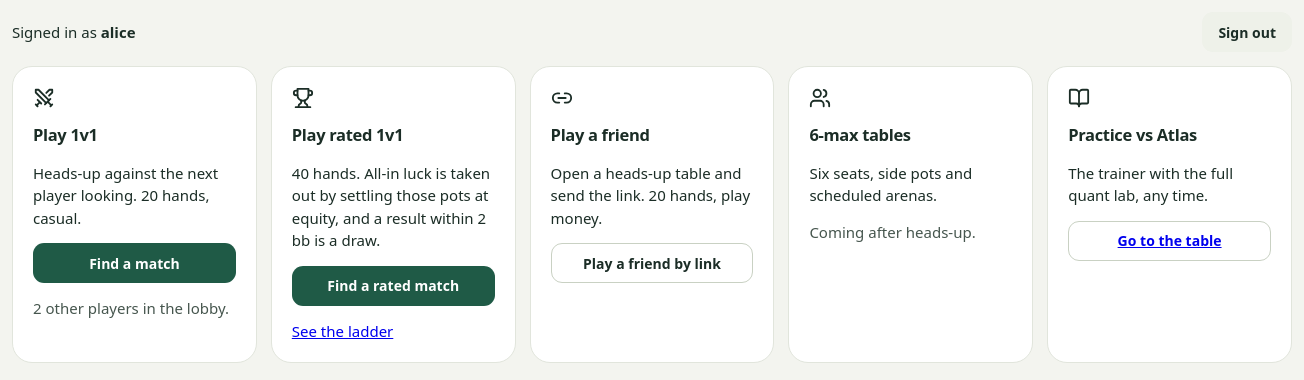
Test case: Lobby: Play 1v1 › finds a match and goes to the table
Expected: the text "2 other players in the lobby." is shown, [33,297,236,320]
Click the button "Find a match": point(134, 263) [33,243,236,283]
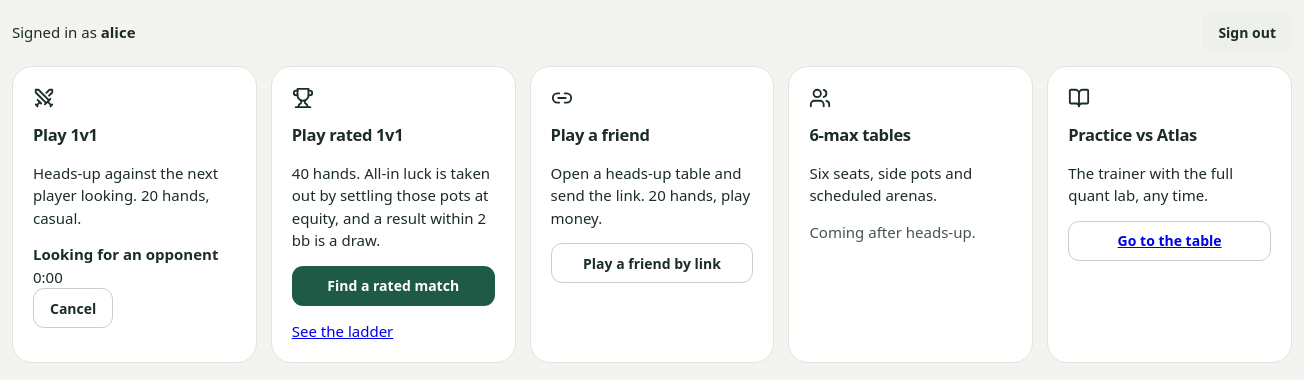
Result: the text "Looking for an opponent" is shown at [33,244,218,264]
